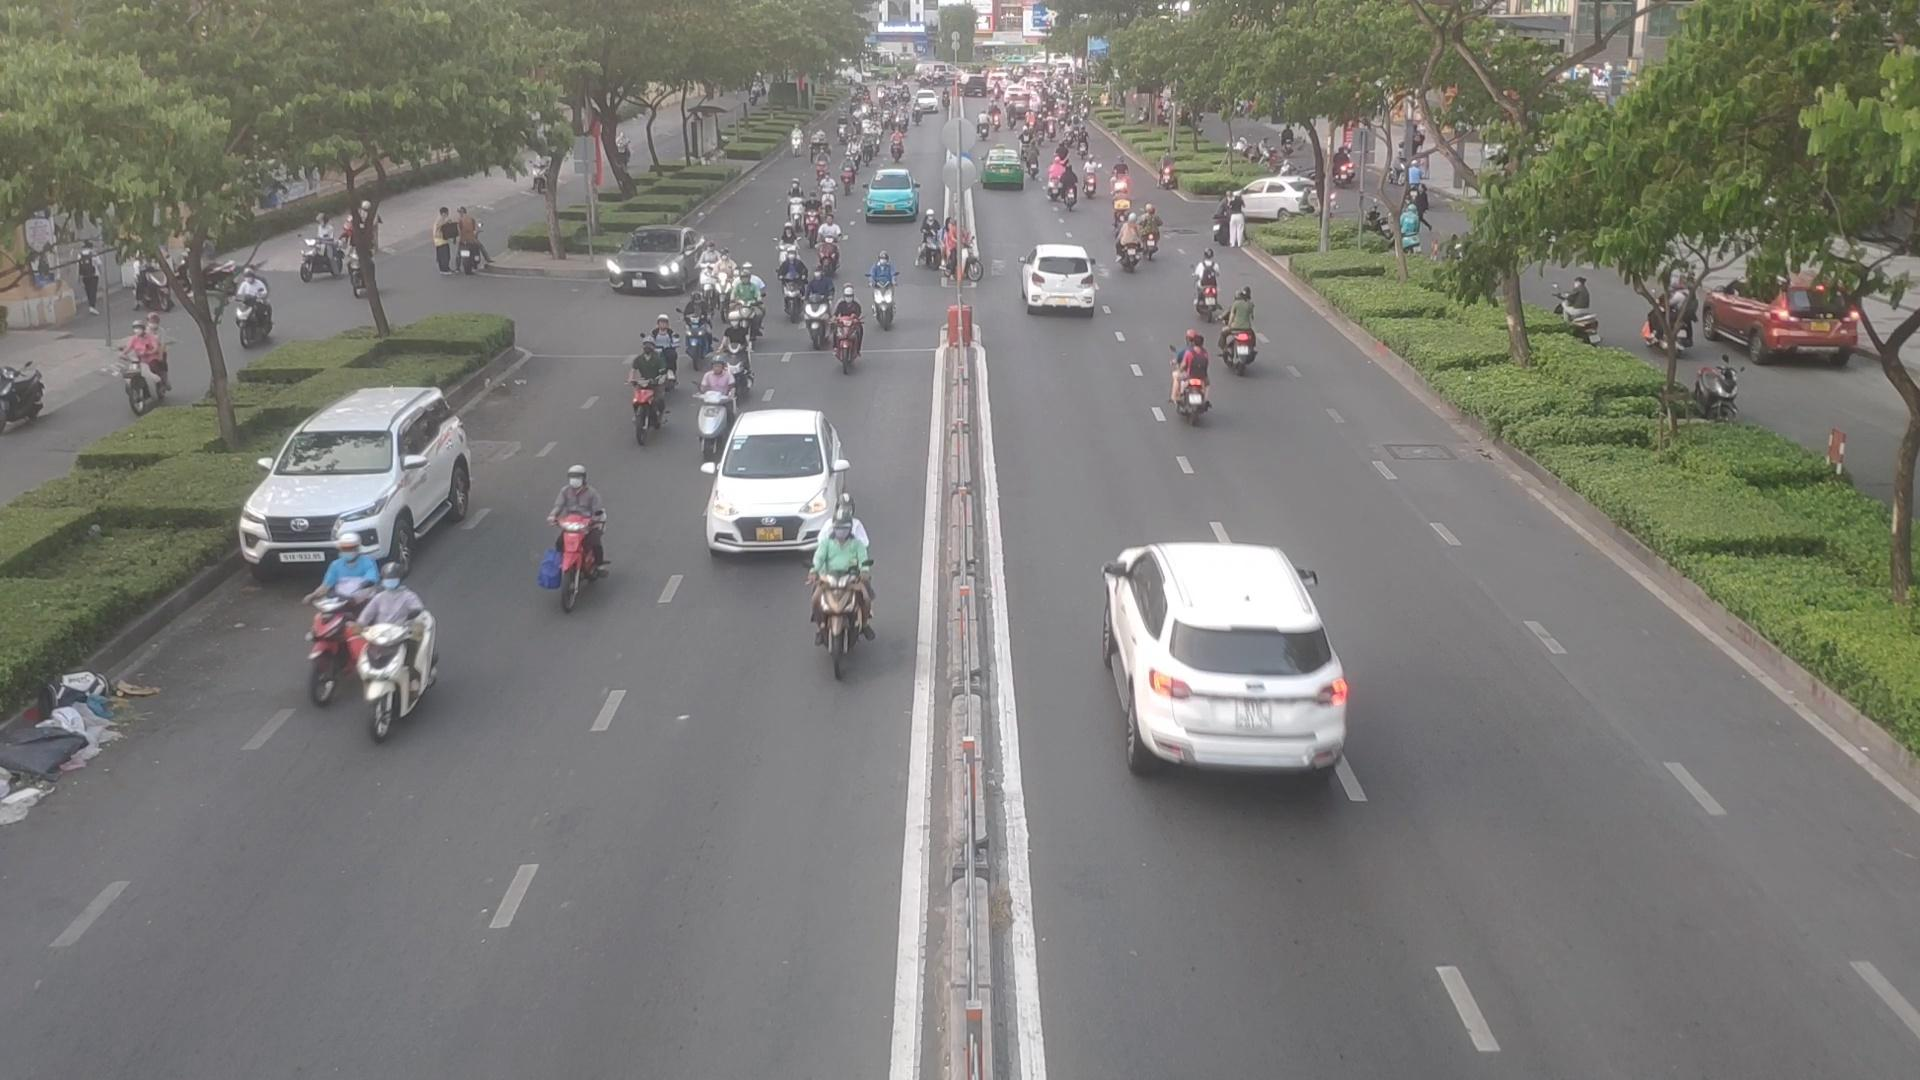car: (1098, 539, 1349, 775), (232, 382, 488, 578), (708, 410, 852, 559), (605, 228, 709, 297), (1021, 243, 1102, 314), (1226, 178, 1311, 224), (862, 170, 923, 225)
motorbike: (352, 560, 448, 753), (305, 531, 376, 702), (545, 473, 612, 622), (819, 513, 882, 666), (1170, 326, 1221, 425), (625, 340, 673, 440), (688, 371, 738, 454), (939, 222, 989, 291), (717, 309, 752, 400), (868, 255, 910, 327), (1224, 293, 1258, 375), (649, 316, 686, 388), (676, 302, 715, 371), (1183, 251, 1218, 314), (733, 268, 766, 334), (705, 247, 738, 309), (774, 255, 808, 314), (837, 287, 860, 371), (808, 274, 832, 347), (1117, 219, 1147, 272), (770, 224, 800, 276), (688, 243, 717, 295), (1138, 204, 1164, 258), (818, 220, 843, 272), (920, 212, 942, 266), (1043, 160, 1065, 200), (1062, 167, 1081, 214), (819, 171, 840, 214), (803, 198, 822, 244), (785, 185, 804, 227), (1109, 158, 1129, 195), (1110, 190, 1130, 225), (1084, 157, 1101, 196)
